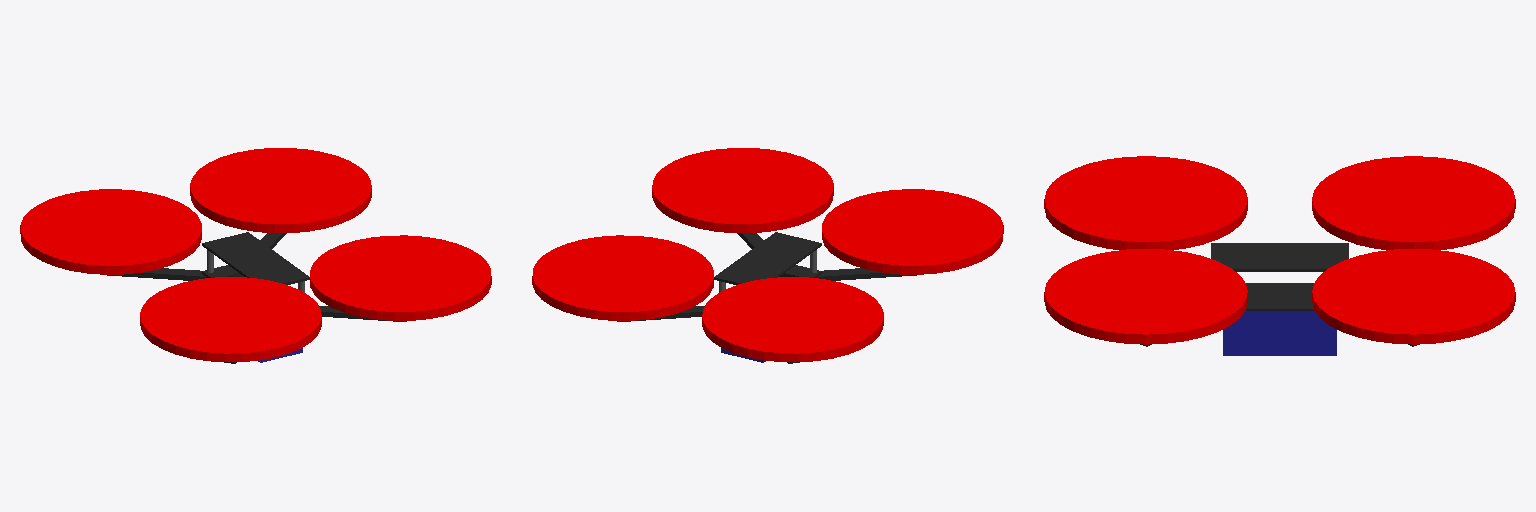
URDF robot description (Quadrotor):
<?xml version="1.0" ?>
<robot name="Quadrotor"  xmlns:xacro="http://www.ros.org/wiki/xacro">

  <!-- You can use https://github.com/openrr/urdf-viz to visualize and edit -->

  <material name="wash">
    <color rgba="1 0 0 .15"/>
  </material>
  <material name="prop">
    <color rgba="1 0 0 1"/>
  </material>
  <material name="motor">
    <color rgba="0.5 0.5 .5 1.0"/>
  </material>
  <material name="carbon">
    <color rgba="0.2 0.2 0.2 1.0"/>
  </material>
  <material name="standoff">
    <color rgba="0.4 0.4 0.4 1.0"/>
  </material>
  <material name="battery">
    <color rgba="0.2 0.2 0.7 1.0"/>
  </material>

  <link name="vehicle">
    <inertial>
      <mass value="0.556"/>
      <inertia ixx="0.006063" ixy="0.000004" ixz="0.000000" iyy="0.00320" iyz="0.000028" izz="0.01"/>
      <origin rpy="0 0 0" xyz="0 0 0"/>
    </inertial>
    <visual>
      <origin xyz="0 0 .001" rpy="0 0 0" />
      <geometry>
        <box size="0.038 .088 .002" />
      </geometry>
      <material name="carbon" />
    </visual>
    <visual>
      <origin xyz="0 0 .029" rpy="0 0 0" />
      <geometry>
        <box size="0.038 .088 .002" />
      </geometry>
      <material name="carbon" />
    </visual>
    <!-- Gussets -->
    <visual>
      <origin xyz="0 .036 .005" rpy="0 0 0" />
      <geometry>
        <box size="0.038 .016 .006" />
      </geometry>
      <material name="carbon" />
    </visual>
    <visual>
      <origin xyz="0 -.036 .005" rpy="0 0 0" />
      <geometry>
        <box size="0.038 .016 .006" />
      </geometry>
      <material name="carbon" />
    </visual>
    <!-- Arms -->
    <visual>
      <origin xyz=".042003 .062846 .004" rpy="0 0 -0.89238684654" />
      <geometry>
        <box size="0.010 .081295 .004" />
      </geometry>
      <material name="carbon" />
    </visual>
    <visual>
      <origin xyz="-.042003 -.062846 .004" rpy="0 0 -0.89238684654" />
      <geometry>
        <box size="0.010 .081295 .004" />
      </geometry>
      <material name="carbon" />
    </visual>
    <visual>
      <origin xyz="-.042003 .062846 .004" rpy="0 0 0.89238684654" />
      <geometry>
        <box size="0.010 .081295 .004" />
      </geometry>
      <material name="carbon" />
    </visual>
    <visual>
      <origin xyz=".042003 -.062846 .004" rpy="0 0 0.89238684654" />
      <geometry>
        <box size="0.010 .081295 .004" />
      </geometry>
      <material name="carbon" />
    </visual>
    <!-- Battery -->
    <visual>
      <origin xyz="0 0 -.016" rpy="0 0 0" />
      <geometry>
        <box size=".035 .073 .032" />
      </geometry>
      <material name="battery" />
    </visual>
    <!-- Standoffs -->
    <visual>
      <origin xyz="0.014250 .040474 .018" rpy="0 0 0" />
      <geometry>
        <cylinder radius=".0025" length="0.0200"/>
      </geometry>
      <material name="standoff" />
    </visual>
    <visual>
      <origin xyz="0.014250 -.040474 .018" rpy="0 0 0" />
      <geometry>
        <cylinder radius=".0025" length="0.0200"/>
      </geometry>
      <material name="standoff" />
    </visual>
    <visual>
      <origin xyz="-0.014250 .040474 .018" rpy="0 0 0" />
      <geometry>
        <cylinder radius=".0025" length="0.0200"/>
      </geometry>
      <material name="standoff" />
    </visual>
    <visual>
      <origin xyz="-0.014250 -.040474 .018" rpy="0 0 0" />
      <geometry>
        <cylinder radius=".0025" length="0.0200"/>
      </geometry>
      <material name="standoff" />
    </visual>
    <!-- Motors -->
    <visual>
      <origin xyz="0.0697565 0.0852185 0.01925" rpy="0 0 0" />
      <geometry>
        <cylinder radius=".0142" length="0.0245"/>
      </geometry>
      <material name="motor" />
    </visual>
    <visual>
      <origin xyz="0.0697565 -0.0852185 0.01925" rpy="0 0 0" />
      <geometry>
        <cylinder radius=".0142" length="0.0245"/>
      </geometry>
      <material name="motor" />
    </visual>
    <visual>
      <origin xyz="-0.0697565 0.0852185 0.01925" rpy="0 0 0" />
      <geometry>
        <cylinder radius=".0142" length="0.0245"/>
      </geometry>
      <material name="motor" />
    </visual>
    <visual>
      <origin xyz="-0.0697565 -0.0852185 0.01925" rpy="0 0 0" />
      <geometry>
        <cylinder radius=".0142" length="0.0245"/>
      </geometry>
      <material name="motor" />
    </visual>
  </link>

  <link name="vicon"></link>
  <joint name="vicon_joint" type="fixed">
    <parent link="vehicle"/>
    <child link="vicon"/>
    <origin rpy="0 0 0" xyz="0 0 0"/>
 </joint>
  <link name="imu"></link>
  <joint name="imu_joint" type="fixed">
    <parent link="vehicle"/>
    <child link="imu"/>
    <origin rpy="3.1415926 0 0" xyz="0 .014 .015"/>
  </joint>

  <link name="end_effector"></link>
  <joint name="ee_joint" type="fixed">
    <parent link="vehicle"/>
    <child link="end_effector"/>
    <origin rpy="0 0 0" xyz="0 .5 0 "/>
  </joint>
  

  <link name="propeller1">
    <!-- <visual>
      <origin xyz="0.032385 0 0" rpy=".35 0 0" />
      <geometry>
        <box size="0.06477 .015 .003" />
      </geometry>
      <material name="prop" />
    </visual>
    <visual>
      <origin xyz="-0.0161925 0.0280462327 0" rpy=".35 0 2.09439510239" />
      <geometry>
        <box size="0.06477 .015 .003" />
      </geometry>
      <material name="prop" />
    </visual>
    <visual>
      <origin xyz="-0.0161925 -0.0280462327 0" rpy=".35 0 4.18879020479" />
      <geometry>
        <box size="0.06477 .015 .003" />
      </geometry>
      <material name="prop" />
    </visual>
    <visual>
      <origin xyz="0 0 0" rpy="0 0 0" />
      <geometry>
        <cylinder radius=".01" length="0.008"/>
      </geometry>
      <material name="prop" />
    </visual> -->
    <inertial>
      <mass value="0.005"/>
      <!-- Based on 5" prop weighing 5g and "thin rod" inertia formula, I = 1/12 m L^2 -->
      <inertia ixx="0.000001" ixy="0" ixz="0" iyy="0.00000672041" iyz="0" izz="0.00000672041"/>
      <origin rpy="0 0 0" xyz="0 0 0"/>
    </inertial>
  </link>
  <link name="propeller2">
    <!-- <visual>
      <origin xyz="0.032385 0 0" rpy="-.35 0 0" />
      <geometry>
        <box size="0.06477 .015 .003" />
      </geometry>
      <material name="prop" />
    </visual>
    <visual>
      <origin xyz="-0.0161925 0.0280462327 0" rpy="-.35 0 2.09439510239" />
      <geometry>
        <box size="0.06477 .015 .003" />
      </geometry>
      <material name="prop" />
    </visual>
    <visual>
      <origin xyz="-0.0161925 -0.0280462327 0" rpy="-.35 0 4.18879020479" />
      <geometry>
        <box size="0.06477 .015 .003" />
      </geometry>
      <material name="prop" />
    </visual>
    <visual>
      <origin xyz="0 0 0" rpy="0 0 0" />
      <geometry>
        <cylinder radius=".01" length="0.008"/>
      </geometry>
      <material name="prop" />
    </visual> -->
    <inertial>
      <mass value="0.005"/>
      <!-- Based on 5" prop weighing 5g and "thin rod" inertia formula, I = 1/12 m L^2 -->
      <inertia ixx="0.000001" ixy="0" ixz="0" iyy="0.00000672041" iyz="0" izz="0.00000672041"/>
      <origin rpy="0 0 0" xyz="0 0 0"/>
    </inertial>
  </link>
  <link name="propeller3">
    <!-- <visual>
      <origin xyz="0.032385 0 0" rpy=".35 0 0" />
      <geometry>
        <box size="0.06477 .015 .003" />
      </geometry>
      <material name="prop" />
    </visual>
    <visual>
      <origin xyz="-0.0161925 0.0280462327 0" rpy=".35 0 2.09439510239" />
      <geometry>
        <box size="0.06477 .015 .003" />
      </geometry>
      <material name="prop" />
    </visual>
    <visual>
      <origin xyz="-0.0161925 -0.0280462327 0" rpy=".35 0 4.18879020479" />
      <geometry>
        <box size="0.06477 .015 .003" />
      </geometry>
      <material name="prop" />
    </visual>
    <visual>
      <origin xyz="0 0 0" rpy="0 0 0" />
      <geometry>
        <cylinder radius=".01" length="0.008"/>
      </geometry>
      <material name="prop" />
    </visual> -->
    <inertial>
      <mass value="0.005"/>
      <!-- Based on 5" prop weighing 5g and "thin rod" inertia formula, I = 1/12 m L^2 -->
      <inertia ixx="0.000001" ixy="0" ixz="0" iyy="0.00000672041" iyz="0" izz="0.00000672041"/>
      <origin rpy="0 0 0" xyz="0 0 0"/>
    </inertial>
  </link>
  <link name="propeller4">
    <!-- <visual>
      <origin xyz="0.032385 0 0" rpy="-.35 0 0" />
      <geometry>
        <box size="0.06477 .015 .003" />
      </geometry>
      <material name="prop" />
    </visual>
    <visual>
      <origin xyz="-0.0161925 0.0280462327 0" rpy="-.35 0 2.09439510239" />
      <geometry>
        <box size="0.06477 .015 .003" />
      </geometry>
      <material name="prop" />
    </visual>
    <visual>
      <origin xyz="-0.0161925 -0.0280462327 0" rpy="-.35 0 4.18879020479" />
      <geometry>
        <box size="0.06477 .015 .003" />
      </geometry>
      <material name="prop" />
    </visual>
    <visual>
      <origin xyz="0 0 0" rpy="0 0 0" />
      <geometry>
        <cylinder radius=".01" length="0.008"/>
      </geometry>
      <material name="prop" />
    </visual> -->
    <inertial>
      <mass value="0.005"/>
      <!-- Based on 5" prop weighing 5g and "thin rod" inertia formula, I = 1/12 m L^2 -->
      <inertia ixx="0.000001" ixy="0" ixz="0" iyy="0.00000672041" iyz="0" izz="0.00000672041"/>
      <origin rpy="0 0 0" xyz="0 0 0"/>
    </inertial>
  </link>

  <!-- Prop indexing matches quadrants of X-Y plane -->

  <!-- Thrust data thanks to Saibernard Yogendran -->
  <!-- Note: 
        - units of kf are N / (rad/s)^2 
        - units of km are N m / (rad/s)^2 
        - Sign convention is atypical - all motors are 
          considered to have the same "positive" axis. 
          Those that spin "backwards" in hover have a 
          negative kf value.
        -->
  <joint name="prop1" type="continuous">
    <parent link="vehicle"/>
    <child link="propeller1"/>
    <origin xyz="0.0697565 0.0852185 .034" rpy="0 0 0"/>
    <axis xyz="0 0 1" />
    <propeller kf="7.87815011e-7" km="1.46013346e-8" /> 
  </joint>
  <joint name="prop2" type="continuous">
    <parent link="vehicle"/>
    <child link="propeller2"/>
    <origin xyz="-0.0697565 0.0852185 .034" rpy="0 0 0"/>
    <axis xyz="0 0 1" />
    <propeller kf="-7.87815011e-7" km="1.46013346e-8" /> 
  </joint>
  <joint name="prop3" type="continuous">
    <parent link="vehicle"/>
    <child link="propeller3"/>
    <origin xyz="-.0697565 -.0852185 .034" rpy="0 0 0"/>
    <axis xyz="0 0 1" />
    <propeller kf="7.87815011e-7" km="1.46013346e-8" /> 
  </joint>
  <joint name="prop4" type="continuous">
    <parent link="vehicle"/>
    <child link="propeller4"/>
    <origin xyz="0.0697565 -0.0852185 .034" rpy="0 0 0"/>
    <axis xyz="0 0 1" />
    <propeller kf="-7.87815011e-7" km="1.46013346e-8" /> 
  </joint>


  <!-- Just for visualization: a transparent link fixed to the vehicle for prop keepout -->
  <link name="prop_keepout">
    <visual>
      <origin xyz="0.0697565 0.0852185 .034" rpy="0 0 0"/>
      <geometry>
        <cylinder radius=".06477" length="0.007"/>
      </geometry>
      <material name="wash" />
    </visual>
    <visual>
      <origin xyz="-0.0697565 0.0852185 .034" rpy="0 0 0"/>
      <geometry>
        <cylinder radius=".06477" length="0.007"/>
      </geometry>
      <material name="wash" />
    </visual>
    <visual>
      <origin xyz="-0.0697565 -0.0852185 .034" rpy="0 0 0"/>
      <geometry>
        <cylinder radius=".06477" length="0.007"/>
      </geometry>
      <material name="wash" />
    </visual>
    <visual>
      <origin xyz="0.0697565 -0.0852185 .034" rpy="0 0 0"/>
      <geometry>
        <cylinder radius=".06477" length="0.007"/>
      </geometry>
      <material name="wash" />
    </visual>
  </link>
  <joint name="keepout" type="fixed">
    <parent link="vehicle"/>
    <child link="prop_keepout"/>
    <origin rpy="0 0 0" xyz=" 0 0 0"/>
  </joint>


</robot>

--- Facts derived from the render (not from the file) ---
3 views of the same robot in one strip: view 1: azimuth 30°, elevation 25°; view 2: azimuth 150°, elevation 25°; view 3: azimuth 270°, elevation 25° (orthographic).
Robot: Quadrotor — 9 links, 8 joints (4 continuous, 4 fixed); root link vehicle; default pose: all joints at 0.
Links seen in each view (by area): view 1: prop_keepout, vehicle; view 2: prop_keepout, vehicle; view 3: prop_keepout, vehicle.
Link boxes in pixels (x1,y1,x2,y2): prop_keepout: [20, 148, 491, 361]; vehicle: [107, 232, 406, 363]; prop_keepout: [532, 148, 1003, 361]; vehicle: [617, 232, 916, 363]; prop_keepout: [1044, 156, 1515, 344]; vehicle: [1140, 243, 1419, 355].
Size in the robot's own frame: 0.2691 by 0.3 by 0.0695 metres.
Geometry: primitives only (box / cylinder / sphere), no mesh files.